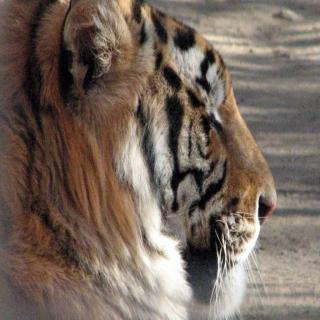Tiger: (0, 0, 277, 320)
